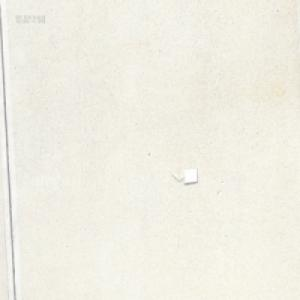LuggageTag: (168, 167, 198, 183)
